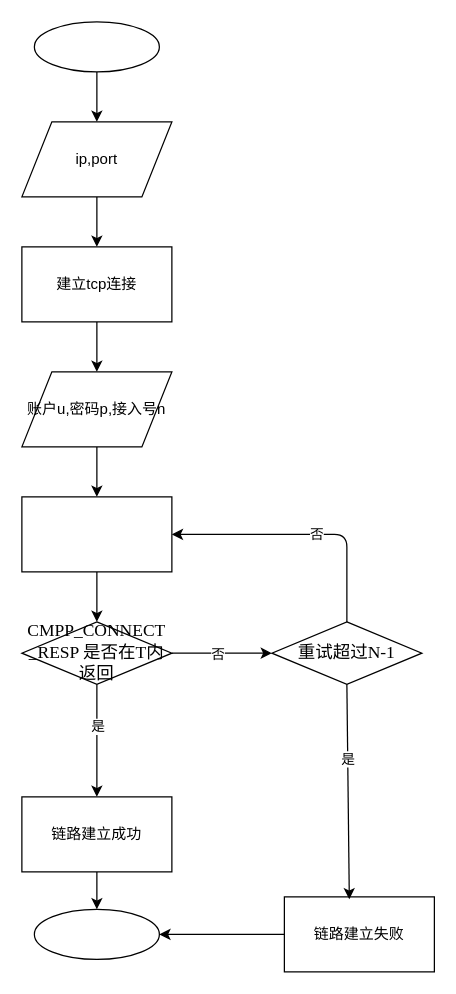
The diagram is 456 pixels wide and 994 high, and some of its shapes have lost their labels. The centre of each missing label's shape, as x and y in pixels:
CMPP­_CONNECT: (96,534)
开始: (96,46)
结束: (96,933)
